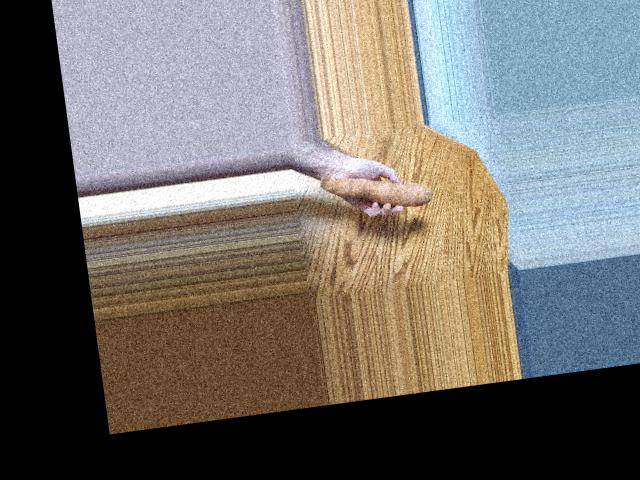sweet_potato: (324, 166, 436, 220)
